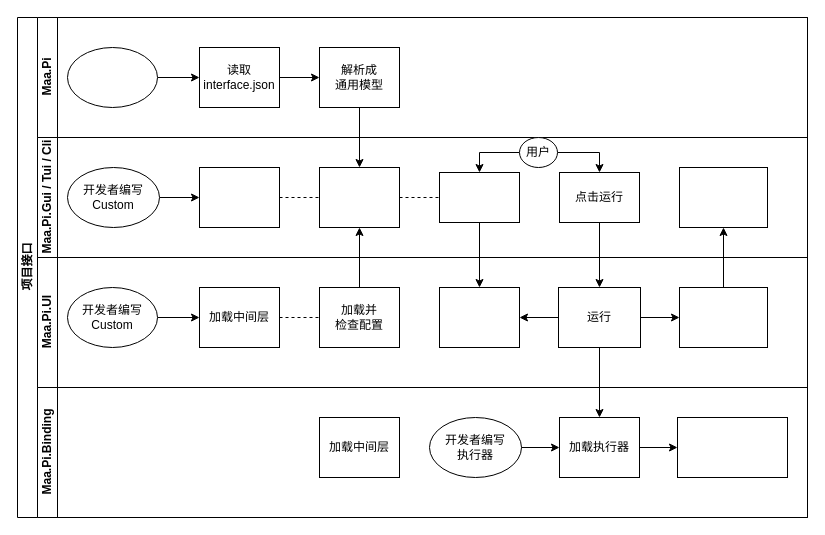
This 825x535 diagram has some shape labels left out. Each missing label, with the centre of its shape:
"保存日志" belongs at point (723, 317).
"保存配置" belongs at point (479, 317).
"加载界面" belongs at point (239, 197).
"开发者编写 interface.json" belongs at point (112, 77).
"显示可用配置" belongs at point (359, 197).
"显示日志" belongs at point (723, 197).
"调整配置" belongs at point (479, 197).
"运行 MaaFramework" belongs at point (732, 447).
